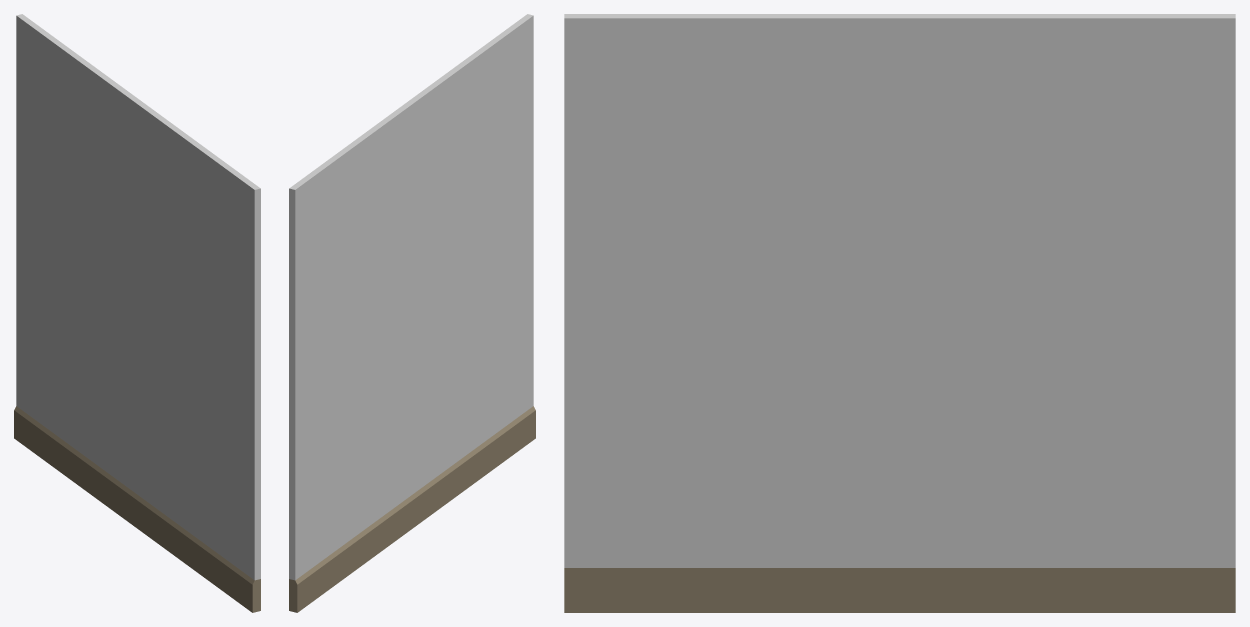
File: innerWall_edge_mesh.fbx
3 renders of one model, left to right at view 1: azimuth 30°, elevation 25°; view 2: azimuth 150°, elevation 25°; view 3: azimuth 270°, elevation 25°, orthographic. The views are drawn at different scales.
Visible parts, largest first — view 1: innerWall_edge_mesh; view 2: innerWall_edge_mesh; view 3: innerWall_edge_mesh.
Boxes of the visible parts, x1,y1,x2,y2 form: innerWall_edge_mesh: [14, 14, 260, 612]; innerWall_edge_mesh: [289, 14, 535, 612]; innerWall_edge_mesh: [564, 14, 1235, 612].
Bounding box in the file's own units: 0.0201 × 0.9777 × 1.
